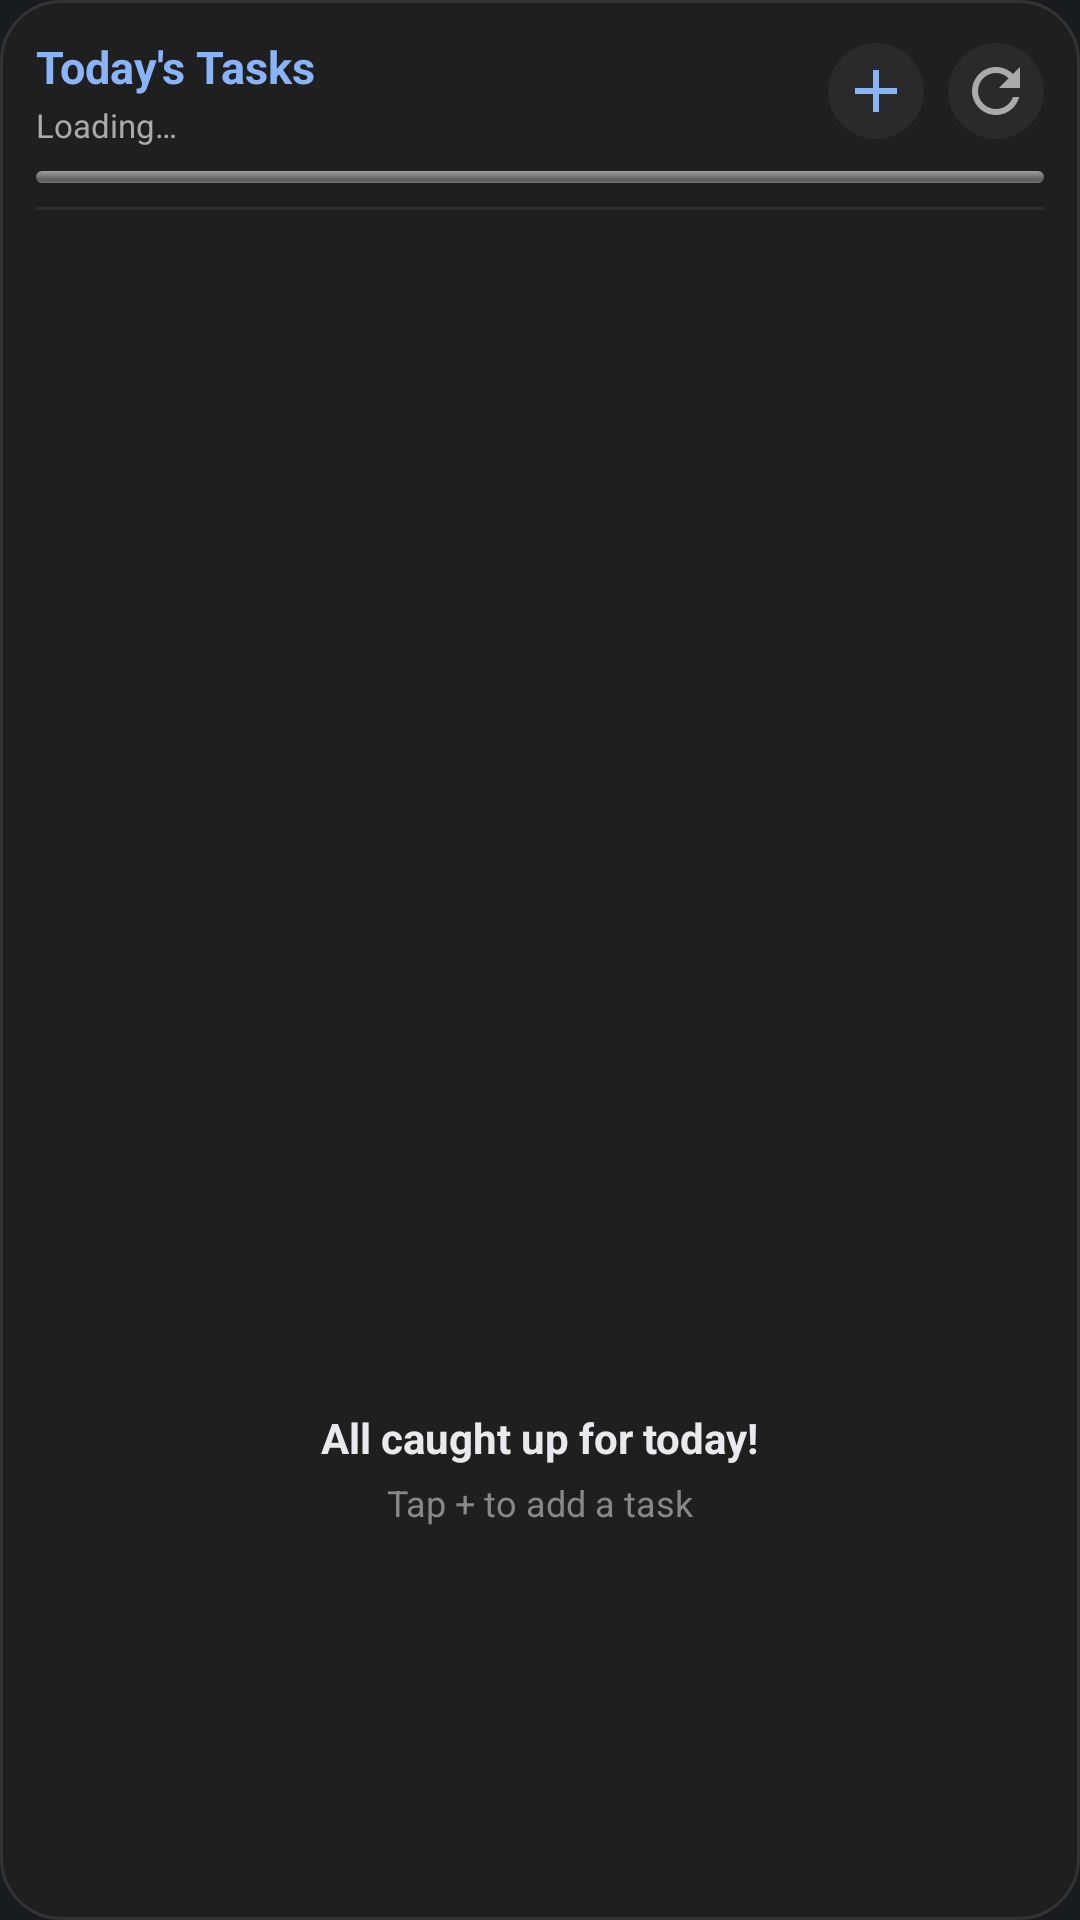

Screen size 1080 × 1920. Icon name, then its box in pixels as (x1, y1, x2, y2):
Add task: (828, 43, 924, 139)
Refresh widget: (948, 43, 1044, 139)
